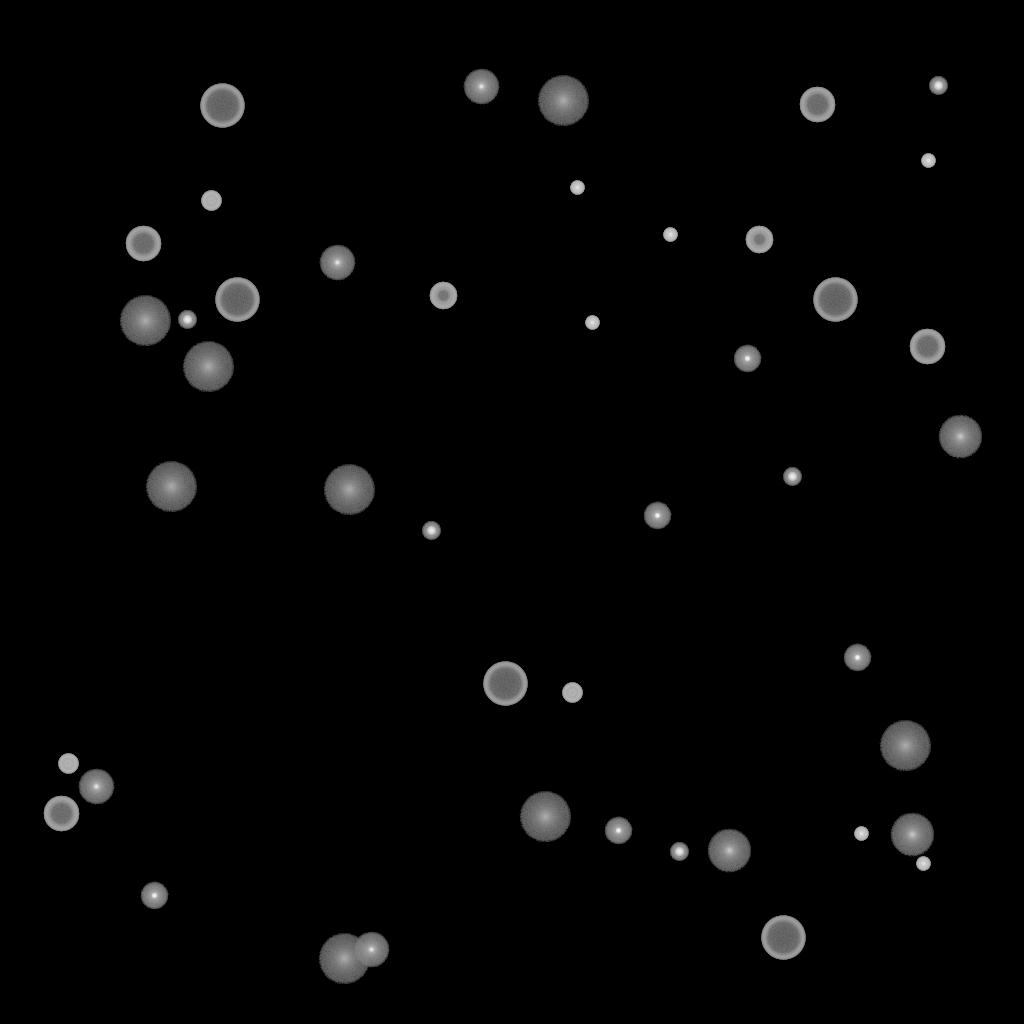depth:-10: (733, 345, 761, 373), (140, 882, 168, 910), (643, 502, 671, 530), (604, 817, 632, 845), (843, 644, 871, 672)
depth:-20: (670, 843, 688, 861), (178, 311, 196, 329), (783, 468, 801, 486), (422, 522, 440, 540), (929, 77, 947, 95)
depth:-30: (921, 154, 935, 168), (916, 857, 930, 871), (585, 316, 599, 330), (570, 181, 584, 195), (854, 827, 868, 841), (663, 228, 677, 242)
depth:-40: (562, 683, 582, 703), (201, 191, 221, 211), (58, 754, 78, 774)
depth:-50: (745, 226, 773, 254), (429, 282, 457, 310)
depth:-60: (799, 87, 835, 123), (125, 226, 161, 262), (43, 796, 79, 832), (909, 329, 945, 365)
depth:-70: (813, 278, 857, 322), (761, 916, 805, 960), (483, 662, 527, 706), (200, 84, 244, 128), (215, 278, 259, 322)
depth:0: (463, 69, 499, 105), (78, 769, 114, 805), (353, 932, 389, 968), (319, 245, 355, 281)
depth:10: (938, 415, 982, 459), (890, 813, 934, 857), (707, 829, 751, 873)
depth:20: (519, 792, 571, 842), (145, 462, 197, 512), (182, 342, 234, 392), (119, 296, 171, 346), (537, 76, 589, 126), (323, 465, 375, 515), (879, 721, 931, 771), (318, 934, 370, 984)
